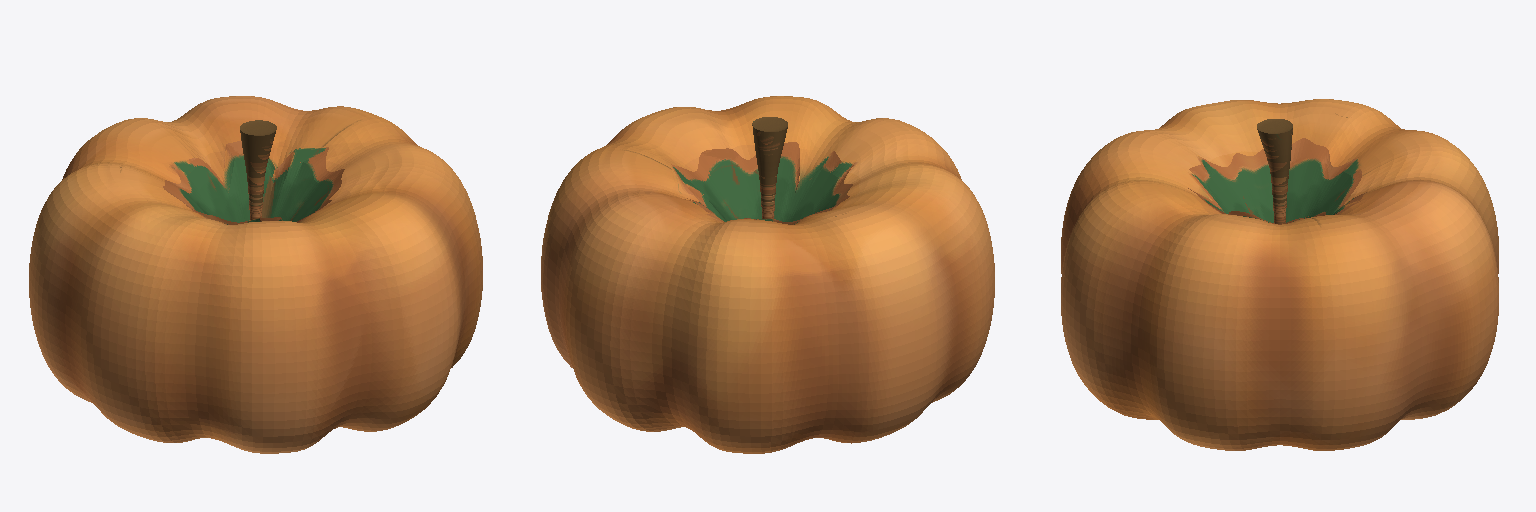
The picture shows the model from 3 angles: view 1: azimuth 30°, elevation 25°; view 2: azimuth 150°, elevation 25°; view 3: azimuth 270°, elevation 25°; orthographic projection.
Visible parts, largest first — view 1: Sphere_Sphere.001; view 2: Sphere_Sphere.001; view 3: Sphere_Sphere.001.
Boxes of the visible parts, x1=… form: Sphere_Sphere.001: x1=29, y1=96, x2=482, y2=453; Sphere_Sphere.001: x1=541, y1=96, x2=994, y2=453; Sphere_Sphere.001: x1=1061, y1=99, x2=1498, y2=450.
Bounding box in the file's own units: 1.92 × 1.24 × 1.9.
1 materials, 1 textured.